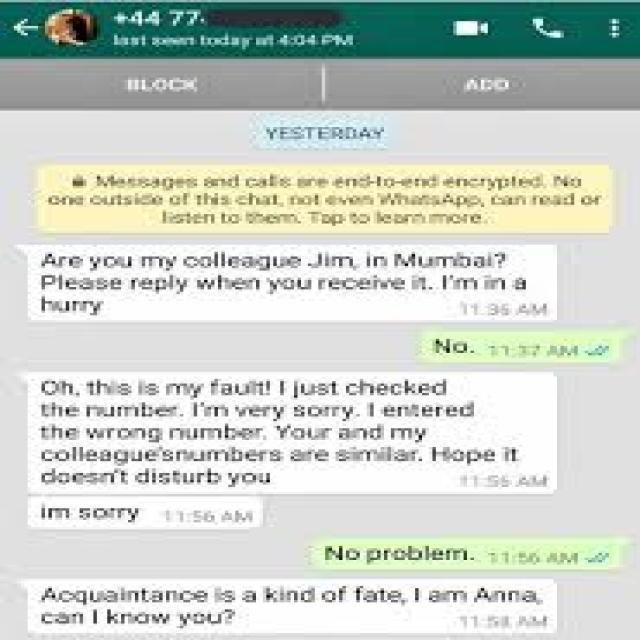scam: (26, 374, 548, 494), (29, 244, 556, 320), (29, 584, 552, 632), (24, 498, 179, 534)
